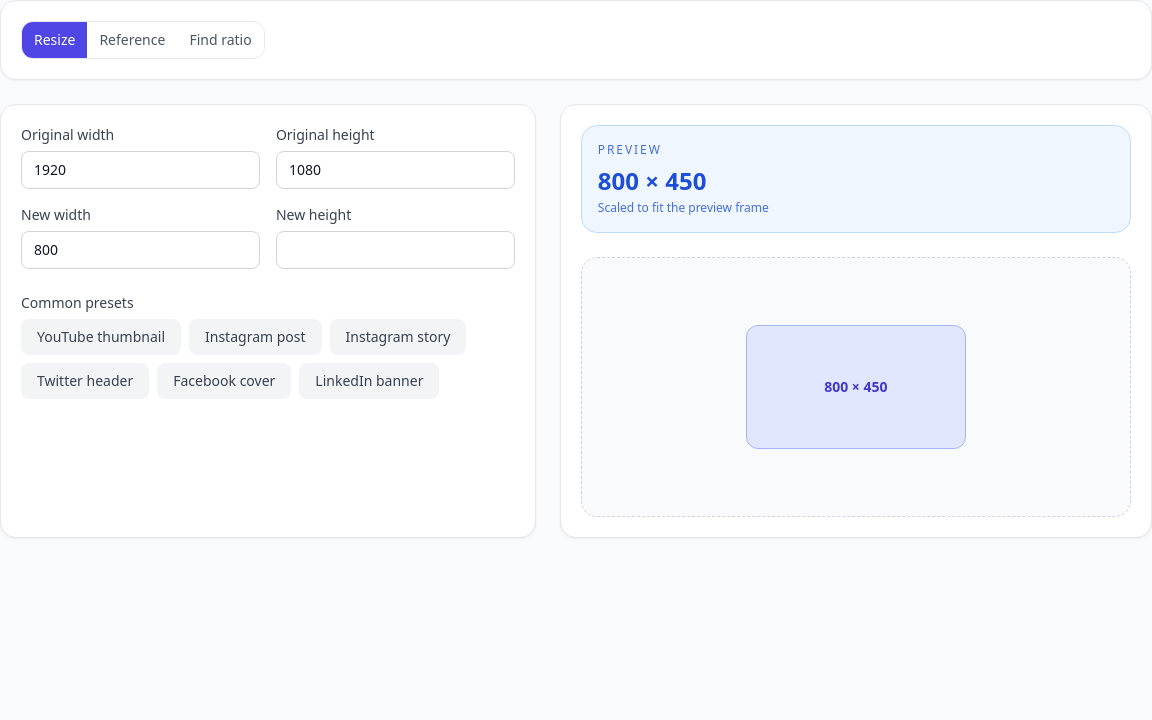
AspectRatioCalculator – coverage › switches to Reference mode and shows ratios
Click the radio button labelled "Reference": (132, 40) [87,22,177,58]
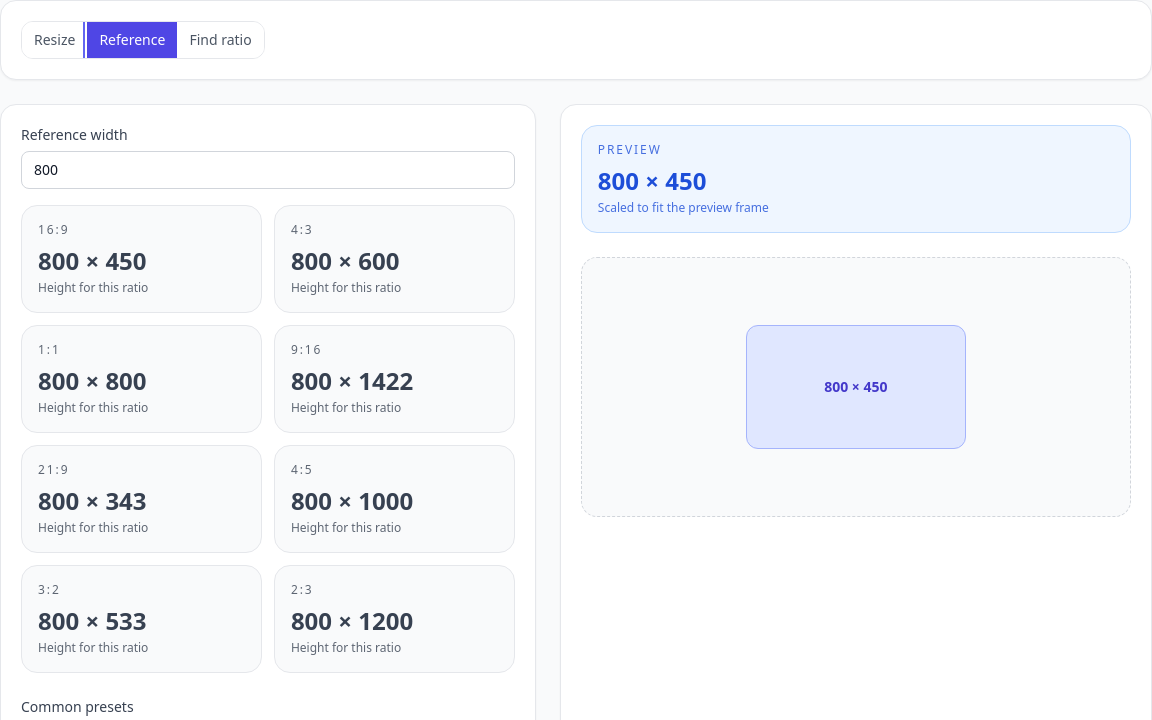
Expected: the text "16:9" is shown, [38,221,70,238]
